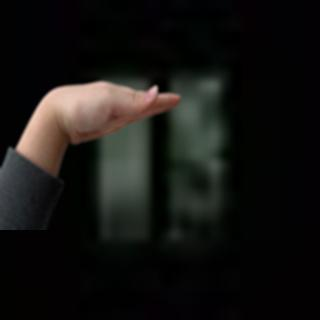Wait: (19, 70, 183, 157)
